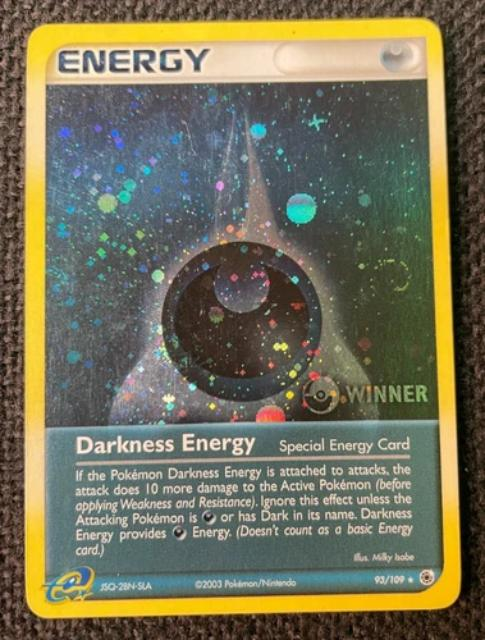Card: (19, 12, 469, 627)
Name: (65, 430, 261, 463)
